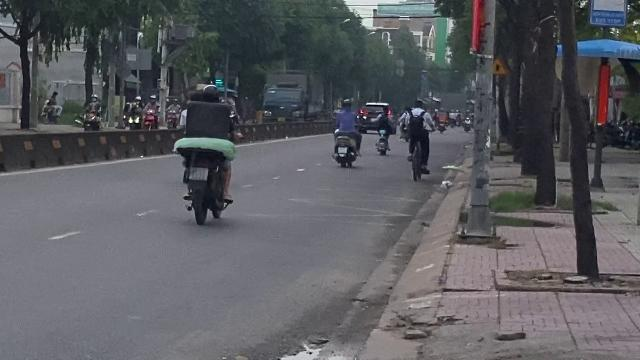helmet: (201, 84, 219, 100)
licenseplate: (188, 167, 208, 179)
motorcyclist: (172, 82, 238, 224)
